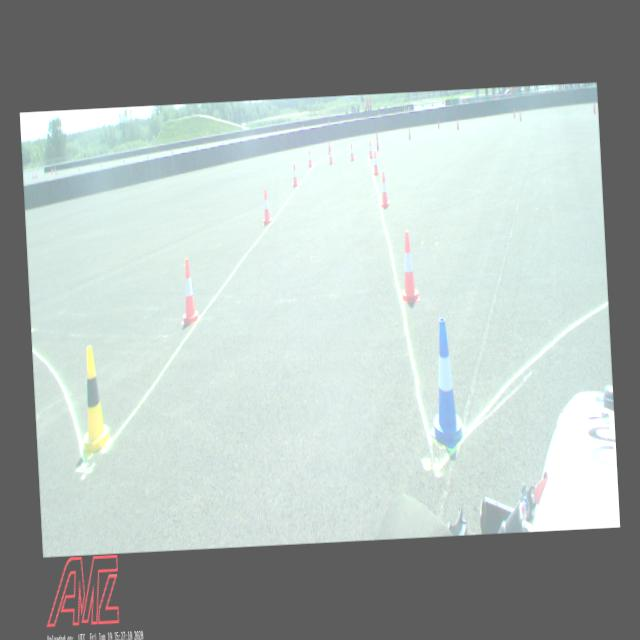blue_cone: (423, 318, 468, 448)
orange_cone: (400, 231, 420, 302), (179, 260, 201, 324), (380, 172, 390, 208), (262, 188, 272, 224), (372, 152, 380, 175), (292, 164, 298, 186), (328, 146, 334, 164), (368, 140, 373, 158), (308, 150, 312, 168), (350, 142, 354, 160)
unknown_cone: (376, 138, 379, 152), (408, 128, 411, 140), (593, 103, 596, 114), (328, 143, 330, 156), (438, 118, 440, 130), (520, 110, 522, 122), (376, 129, 378, 140), (457, 120, 459, 130), (514, 108, 516, 118)
yellow_cone: (78, 345, 111, 457)
